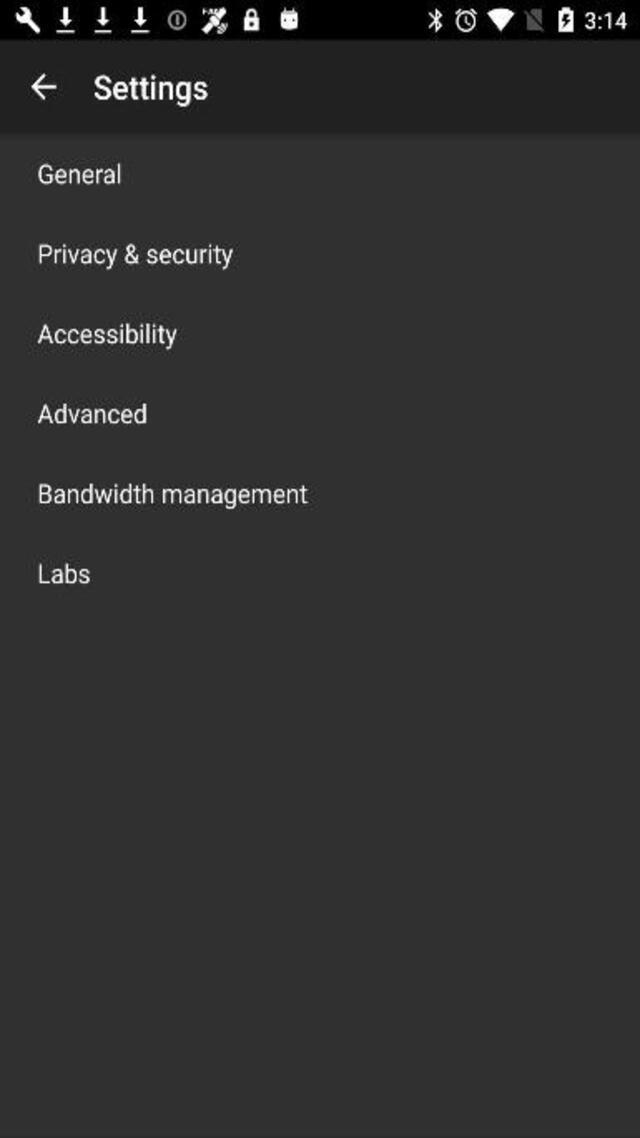Icon: (29, 74, 56, 100)
Text: (39, 482, 307, 510), (40, 242, 234, 270), (38, 322, 178, 350), (95, 74, 208, 106), (38, 402, 146, 423), (40, 164, 120, 185), (39, 562, 91, 583)
